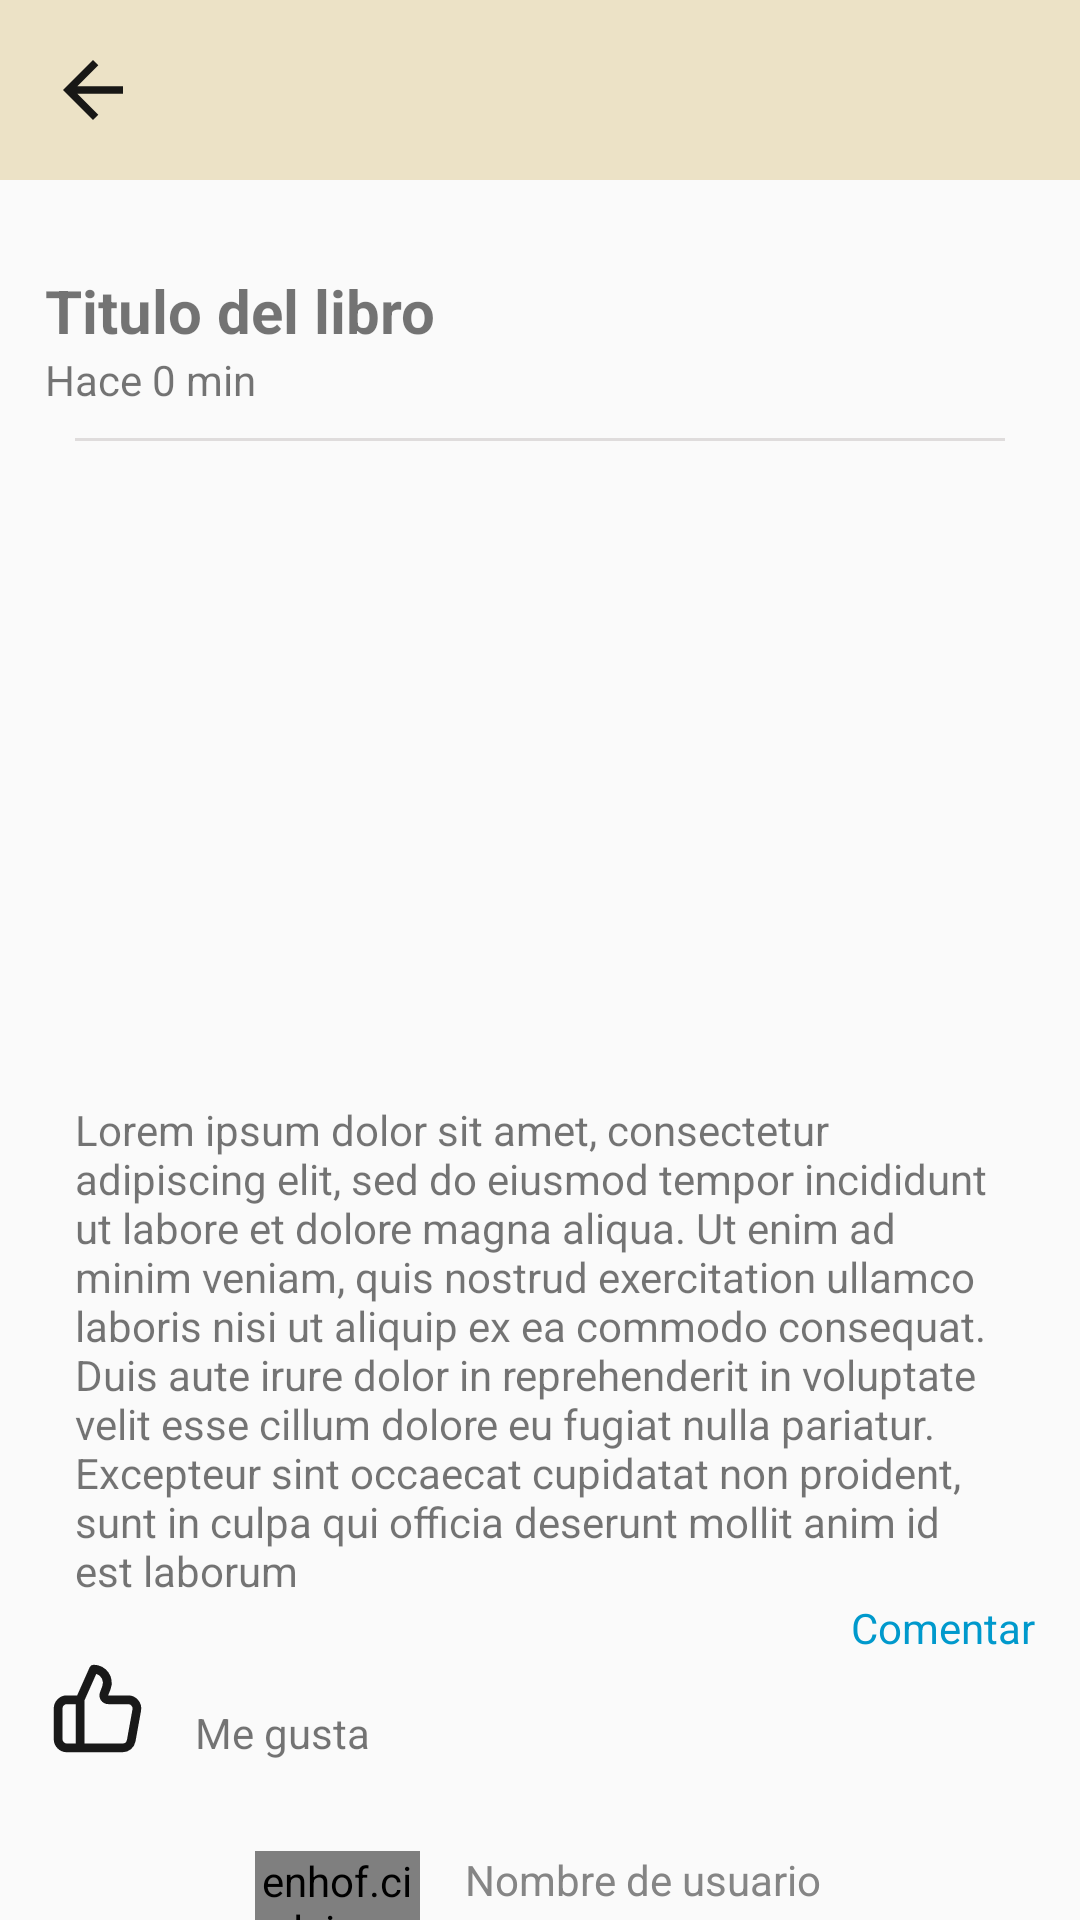

Named icons in this screenshot (1080 x 1920) and their centers, point (x, y):
arrow back: point (93, 90)
like: point (97, 1708)
